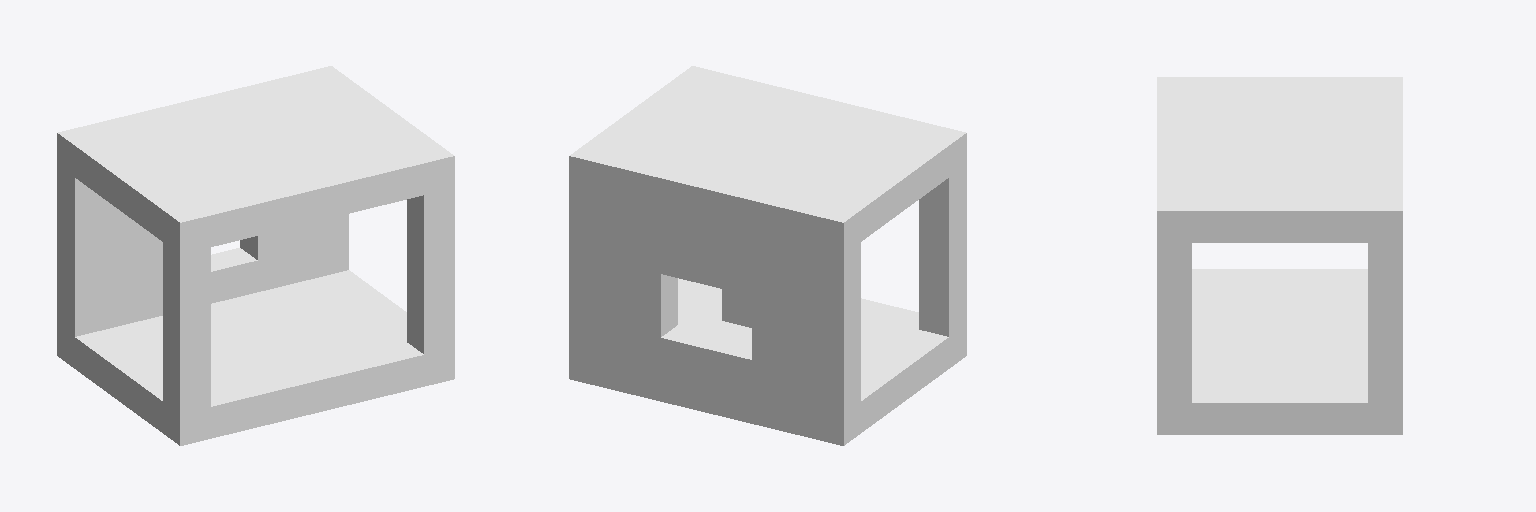
Rendered from Kitchen-5-Furnace.obj.
3 renders of one model, left to right at view 1: azimuth 30°, elevation 25°; view 2: azimuth 150°, elevation 25°; view 3: azimuth 270°, elevation 25°, orthographic.
Parts seen in each view (by area): view 1: Furnace; view 2: Furnace; view 3: Furnace.
Boxes of the visible parts, <box> form: Furnace: <box>57,66,454,445</box>; Furnace: <box>569,66,966,445</box>; Furnace: <box>1157,77,1402,434</box>.
Size of the model in its own units: 0.9 by 0.7 by 0.7.